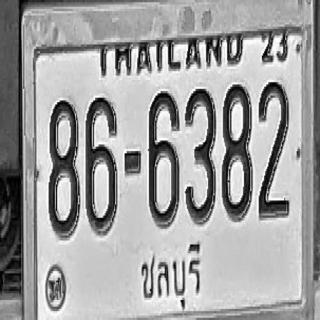N02: (258, 80, 289, 218)
N03: (185, 87, 216, 224)
N06: (148, 90, 179, 228), (86, 96, 117, 233)
N08: (48, 98, 80, 238), (221, 82, 252, 220)
P13: (138, 238, 208, 318)
